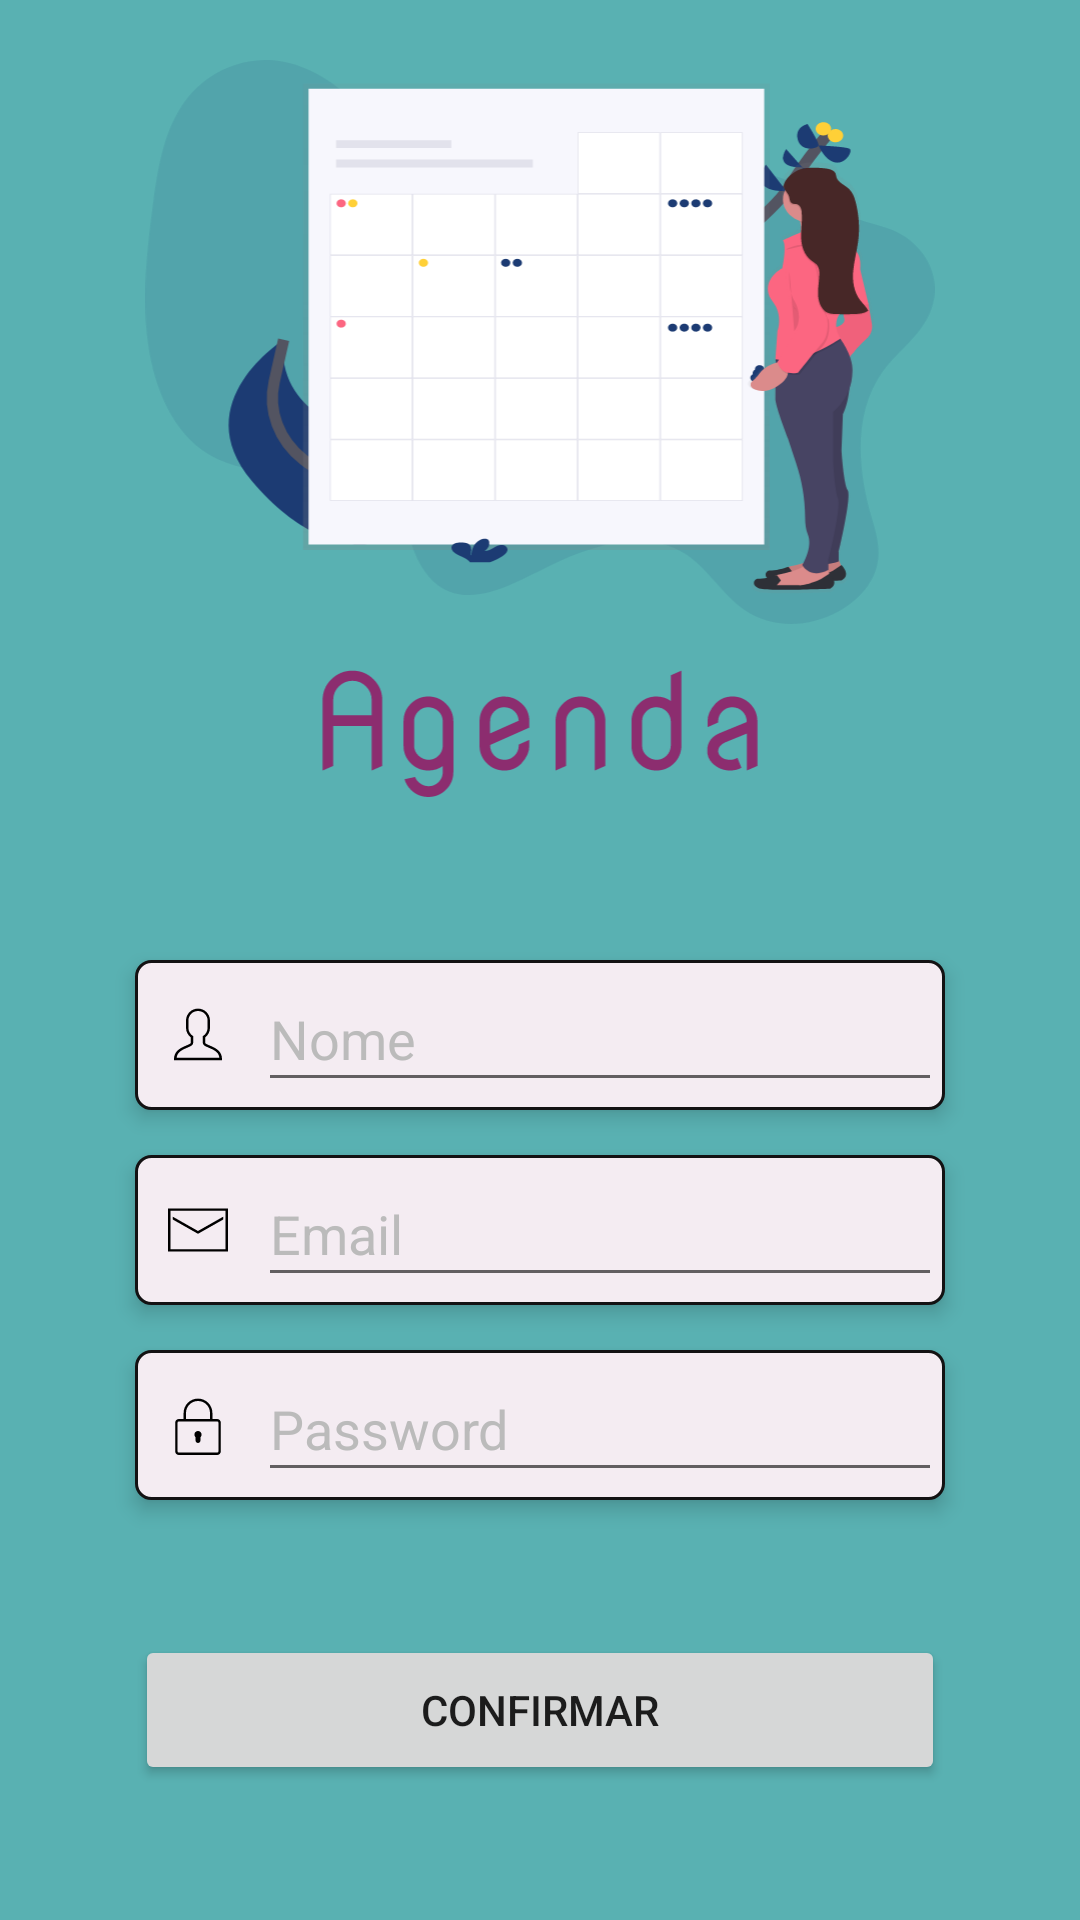

Named icons in this screenshot (1080px×1920px) and their bounding boxes, Rect(x1, y1, x2, y2):
person: Rect(174, 1008, 222, 1061)
